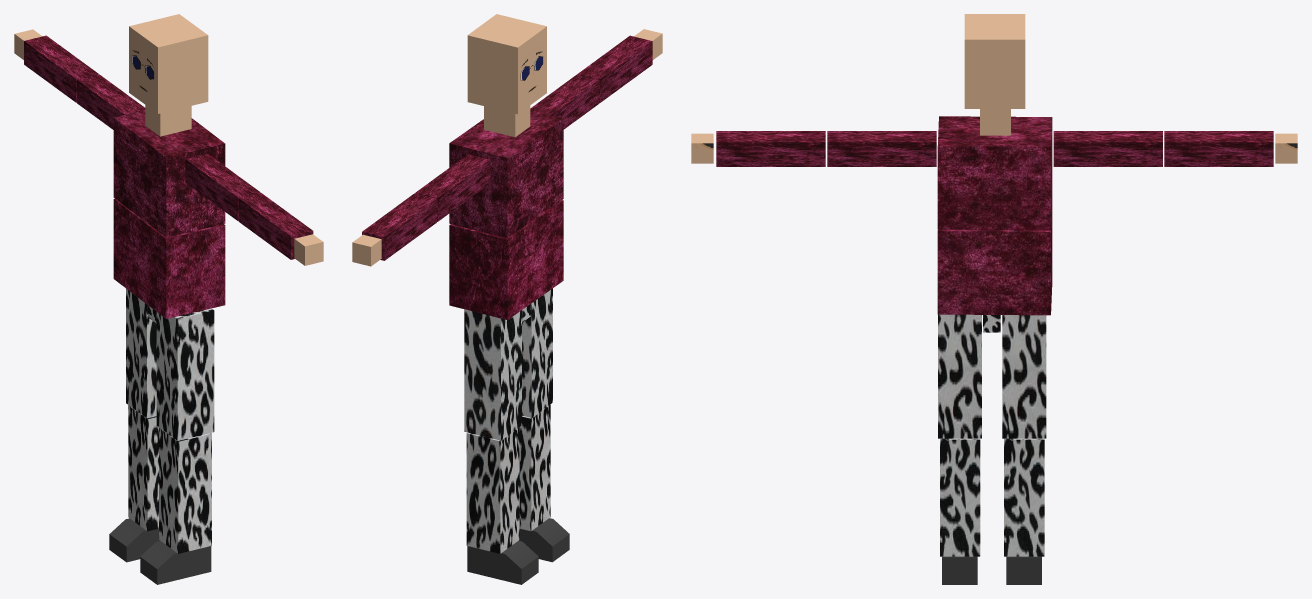
The model's file is karakter1_2.fbx.
The picture shows the model from 3 angles, left to right: view 1: azimuth 30°, elevation 25°; view 2: azimuth 150°, elevation 25°; view 3: azimuth 270°, elevation 25°; orthographic projection. The views are drawn at different scales.
Parts seen in each view (by area): view 1: pCube8, pCube30, pCube5, pCube6, pCube22, pCube28, pCube27, pCube23, pCube9, pCube25, pCube14, pCube24 (+3 smaller); view 2: pCube8, pCube30, pCube27, pCube6, pCube28, pCube22, pCube5, pCube25, pCube23, pCube24, pCube29, pCube9 (+4 smaller); view 3: pCube8, pCube30, pCube6, pCube27, pCube5, pCube28, pCube22, pCube9, pCube23, pCube24, pCube25, pCube14 (+2 smaller).
Boxes of the visible parts, <box> form: pCube8: <box>113,110,225,237</box>; pCube30: <box>113,198,225,318</box>; pCube5: <box>156,308,214,440</box>; pCube6: <box>129,14,208,113</box>; pCube22: <box>159,427,211,553</box>; pCube28: <box>128,405,158,531</box>; pCube27: <box>126,288,156,418</box>; pCube23: <box>238,192,313,259</box>; pCube9: <box>185,154,260,220</box>; pCube25: <box>24,35,98,102</box>; pCube14: <box>140,541,211,584</box>; pCube24: <box>77,74,145,129</box>; pCube8: <box>449,110,563,238</box>; pCube30: <box>449,200,563,319</box>; pCube27: <box>464,309,521,440</box>; pCube6: <box>467,14,546,114</box>; pCube28: <box>466,427,519,553</box>; pCube22: <box>519,404,550,531</box>; pCube5: <box>522,288,552,417</box>; pCube25: <box>362,193,436,260</box>; pCube23: <box>577,35,652,102</box>; pCube24: <box>415,154,490,221</box>; pCube29: <box>467,540,538,584</box>; pCube9: <box>530,74,599,129</box>; pCube8: <box>937,116,1052,230</box>; pCube30: <box>937,202,1052,315</box>; pCube6: <box>964,14,1025,108</box>; pCube27: <box>1002,315,1046,438</box>; pCube5: <box>938,314,981,438</box>; pCube28: <box>1004,438,1044,556</box>; pCube22: <box>940,438,980,556</box>; pCube9: <box>827,131,936,166</box>; pCube23: <box>716,131,825,166</box>; pCube24: <box>1053,131,1162,166</box>; pCube25: <box>1164,131,1273,166</box>; pCube14: <box>942,556,977,584</box>.
Bounding box in the file's own units: 4.33 × 32.13 × 32.12.
4 materials, 3 textured.
